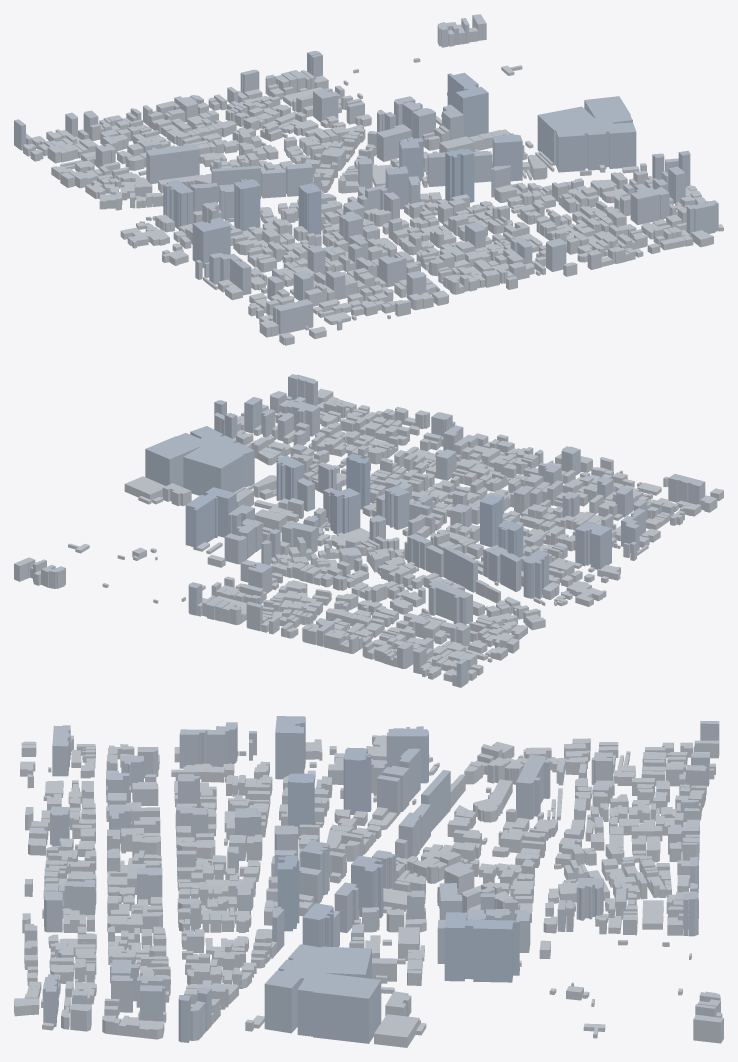
3 renders of one model, top to bottom at view 1: azimuth 30°, elevation 25°; view 2: azimuth 150°, elevation 25°; view 3: azimuth 270°, elevation 25°, orthographic. The views are drawn at different scales.
Size of the model in its own units: 523 by 49.61 by 514.
